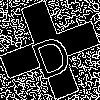D: (25, 25, 75, 81)
